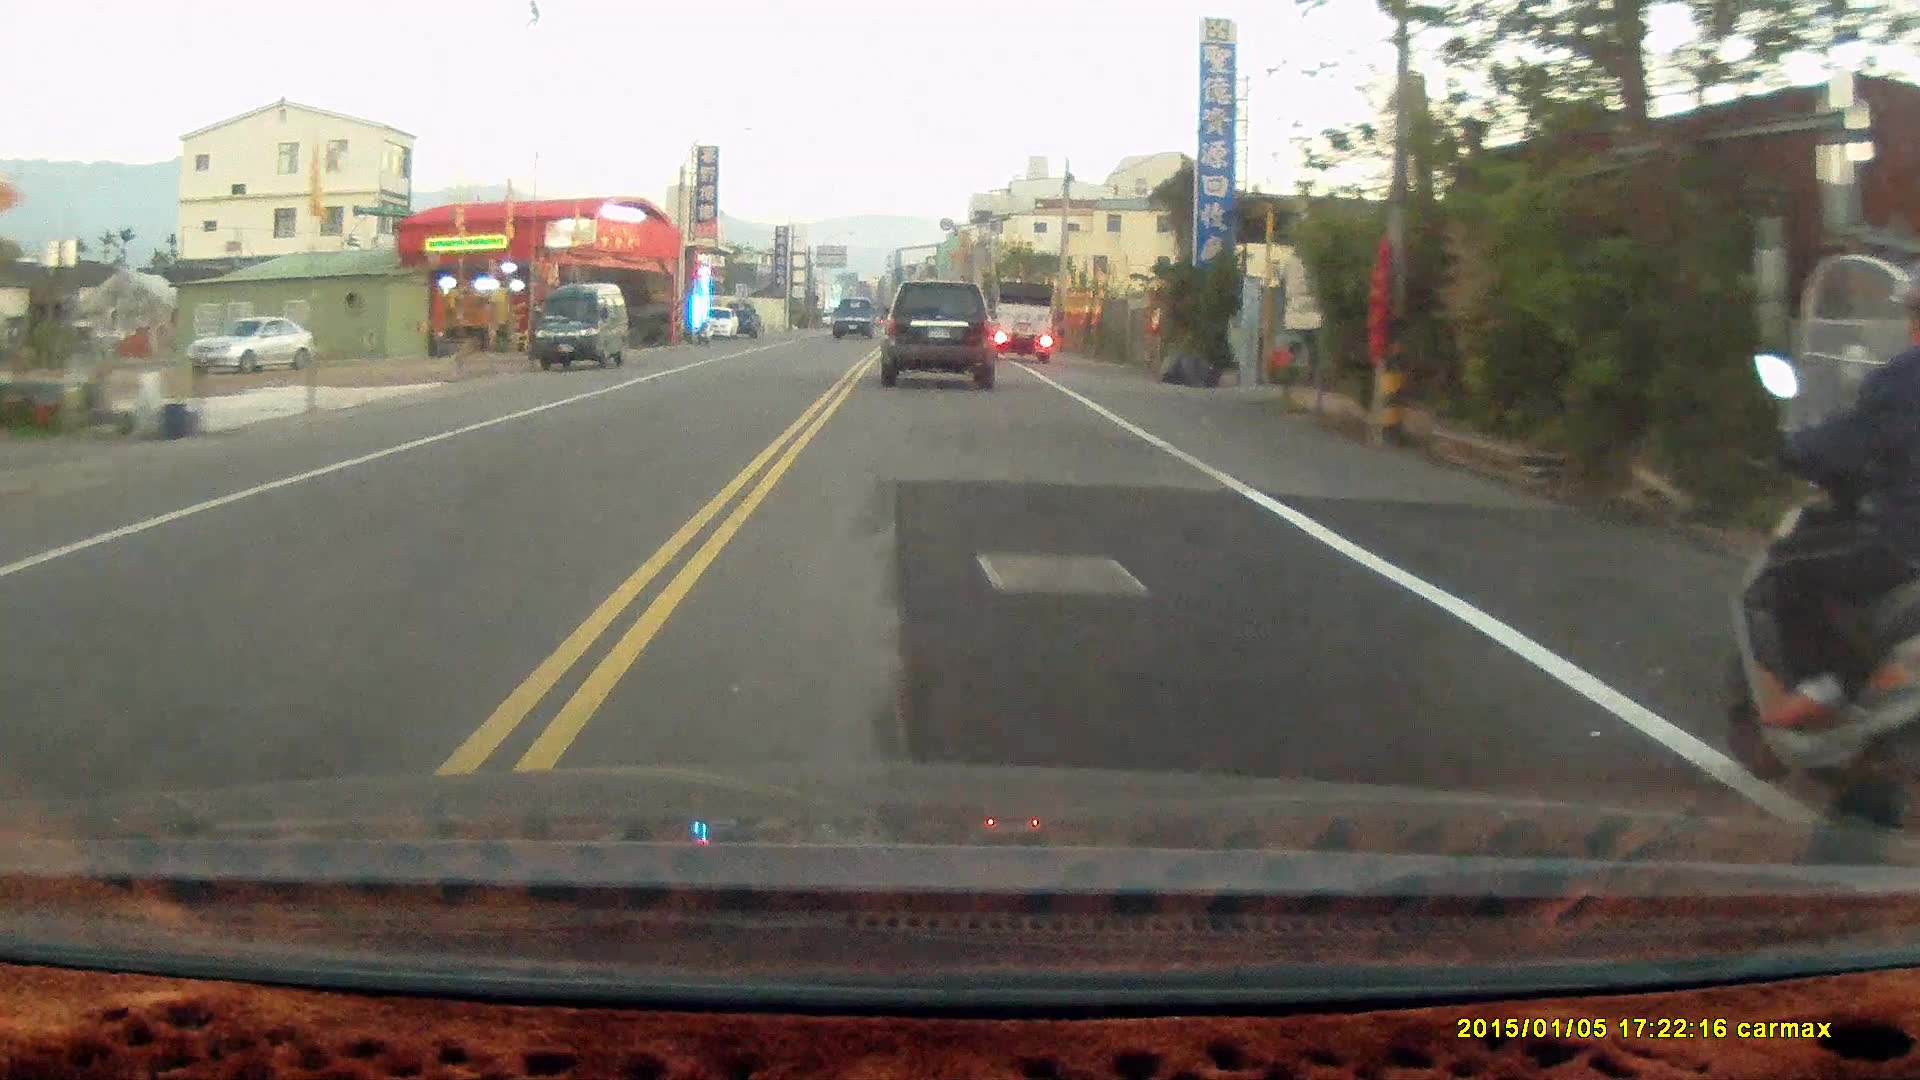rider: (1725, 252, 1920, 847)
vehicle: (875, 271, 1004, 385), (536, 282, 630, 372), (183, 312, 319, 372), (985, 277, 1058, 364)
